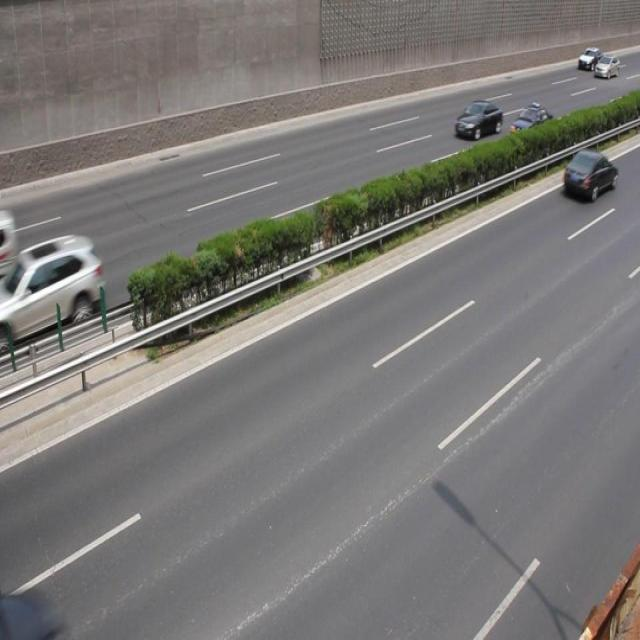car: (1, 236, 108, 360), (561, 149, 618, 202), (453, 100, 502, 139), (510, 105, 556, 146), (575, 46, 603, 72), (593, 55, 617, 78)
truck: (1, 210, 22, 307)
